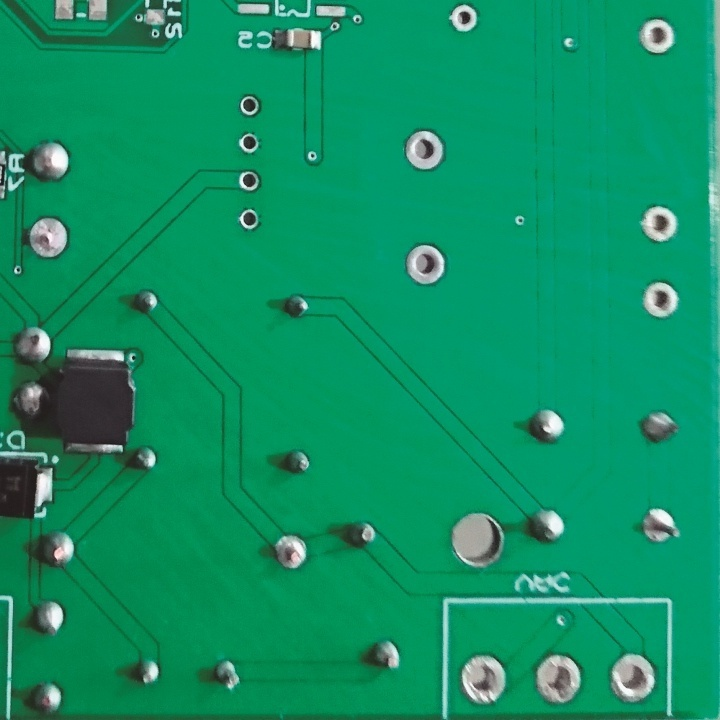F: (456, 651, 510, 714), (533, 652, 584, 709), (608, 649, 659, 705), (403, 241, 450, 288), (405, 126, 449, 175), (24, 218, 71, 261), (637, 278, 680, 321), (638, 202, 679, 246), (641, 505, 681, 549), (273, 532, 308, 575), (637, 17, 676, 55), (444, 1, 481, 33), (236, 205, 265, 236), (236, 129, 264, 155), (238, 167, 263, 193), (239, 92, 263, 118)
